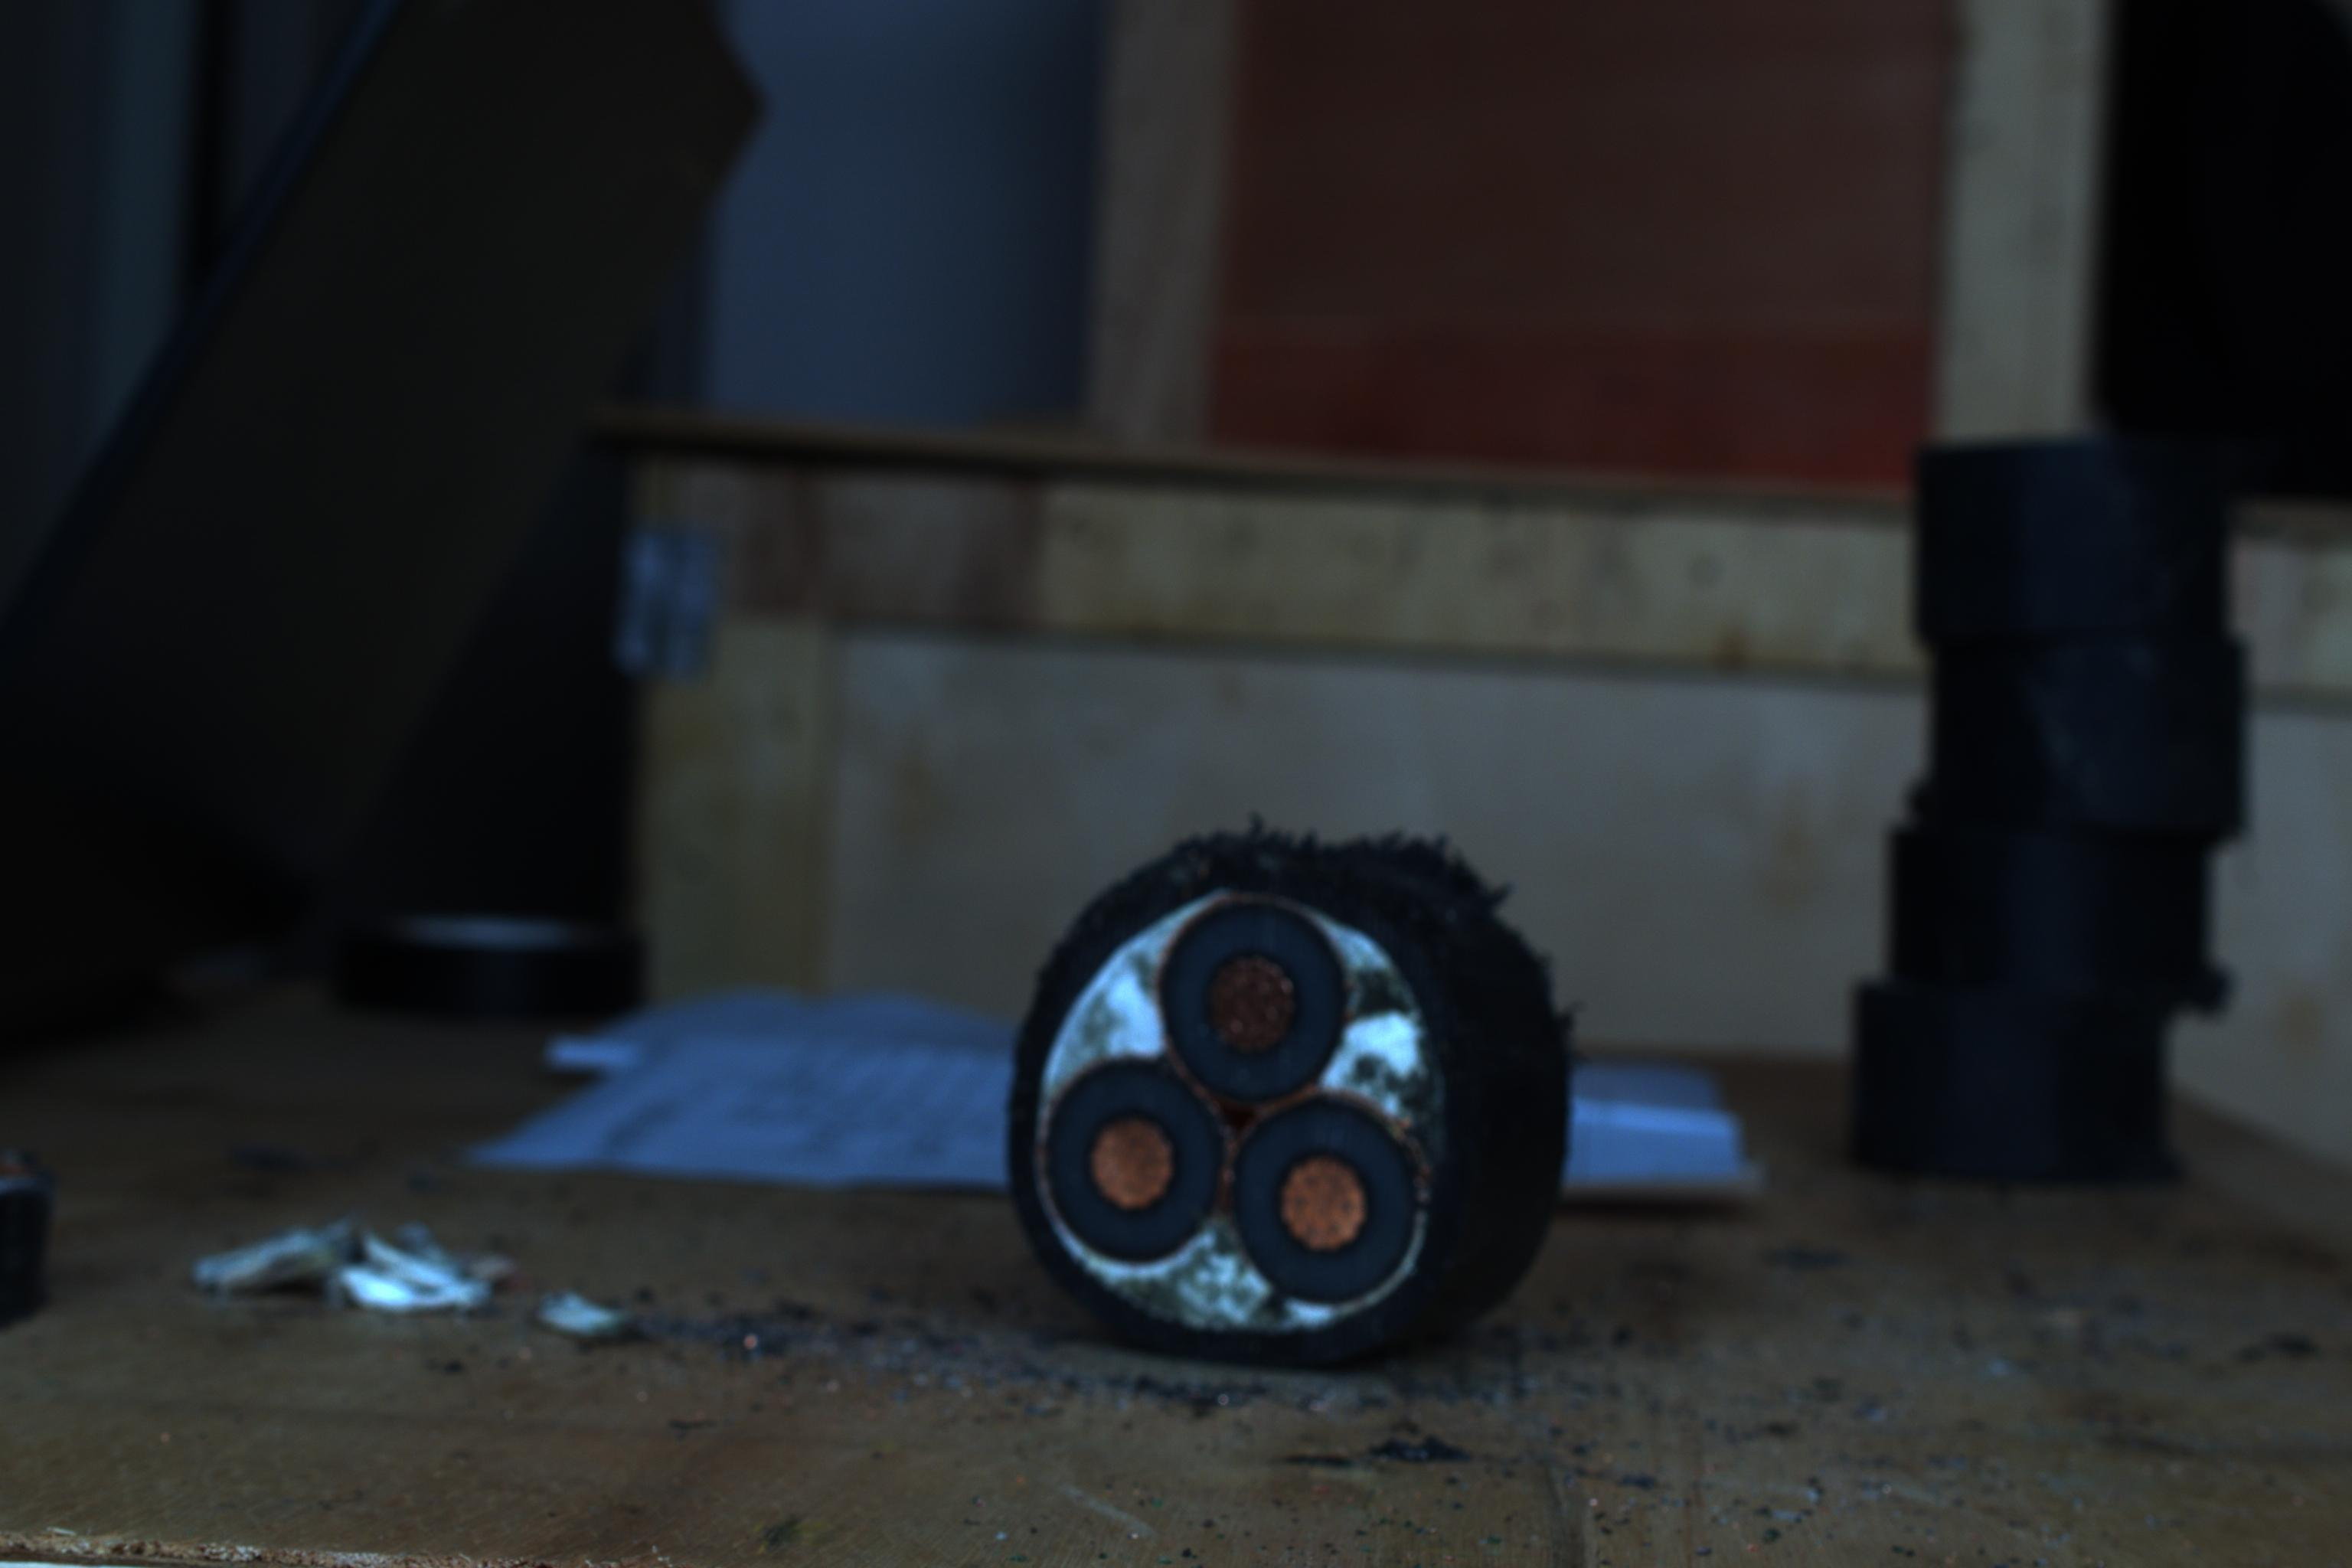YJV_8.7_10kV_3x70: (1006, 845, 1482, 1346)
